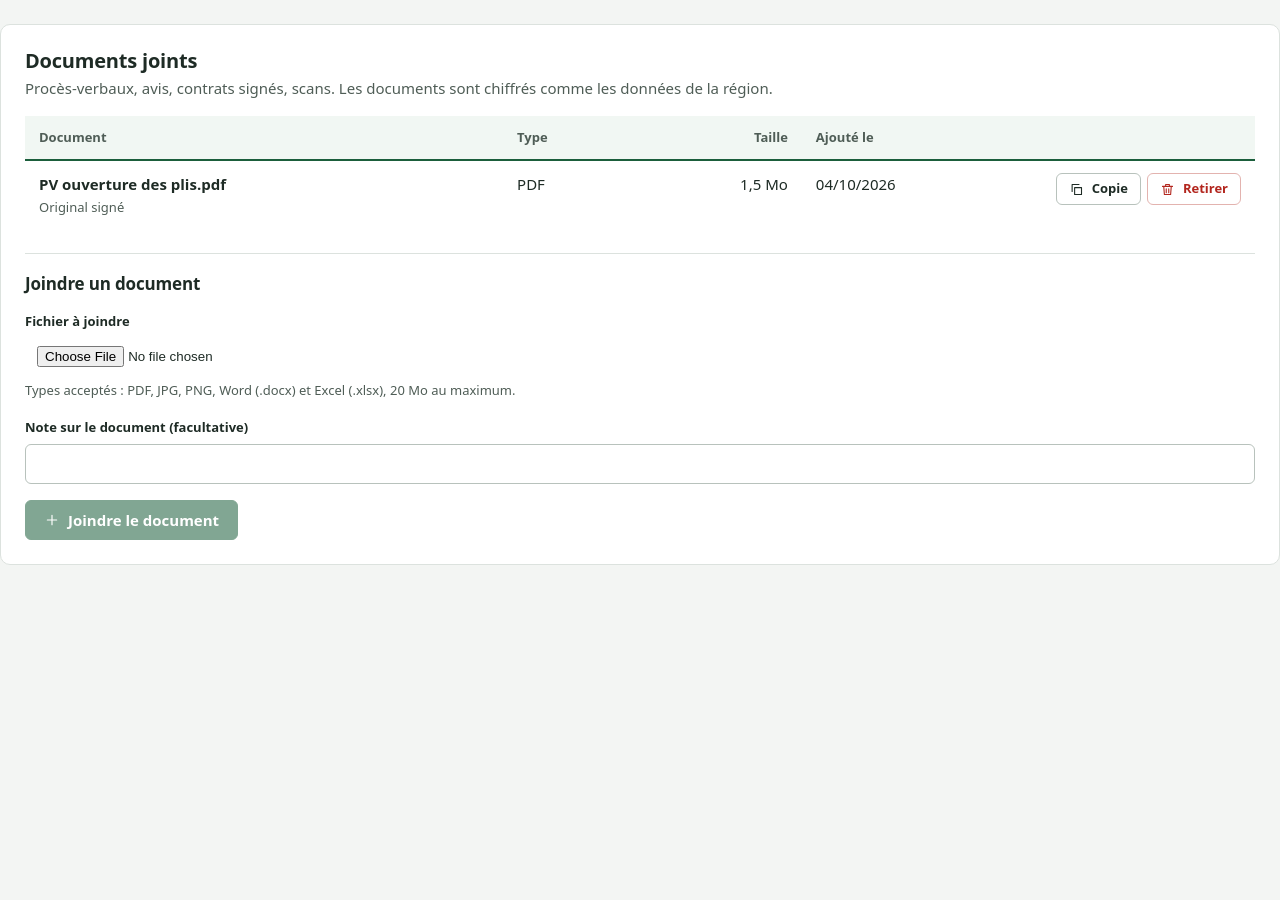
Test case: AttachmentsPanel › affiche l’erreur quand le document est illisible
Click the button with aria-label "Enregistrer une copie de": coordinates (1098, 189) x1=1056 y1=173 x2=1141 y2=205
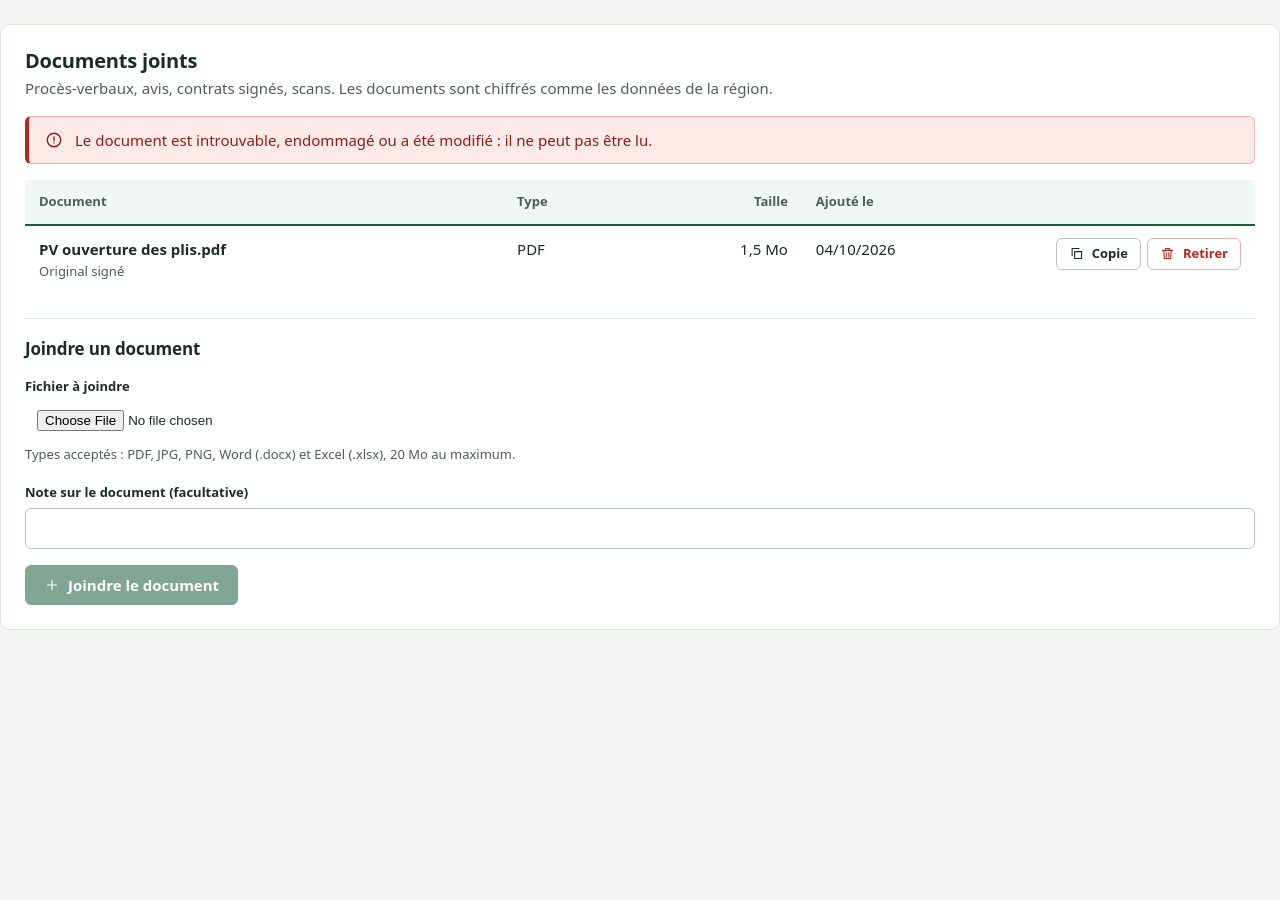
Check: the message shows "endommagé ou a été modifié", box x1=75 y1=130 x2=652 y2=150
